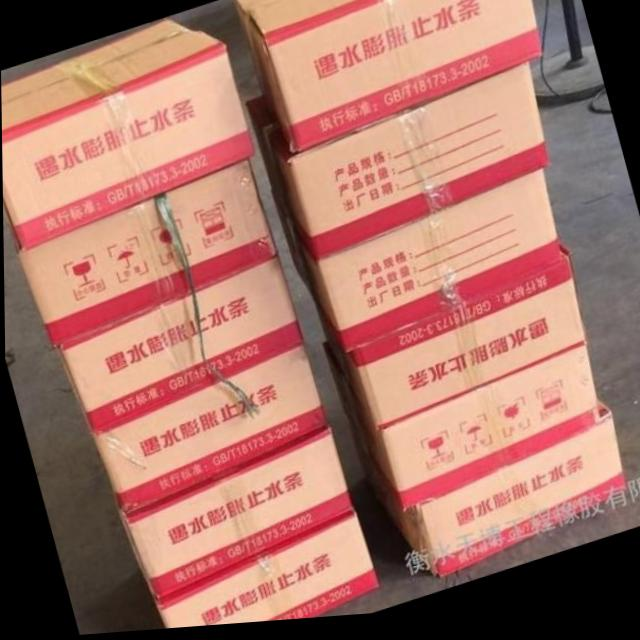box: (246, 68, 548, 266), (1, 22, 255, 251), (270, 178, 558, 355), (312, 254, 585, 438), (233, 0, 543, 160), (18, 162, 276, 352), (367, 406, 624, 583), (54, 261, 302, 438), (347, 354, 598, 518), (119, 434, 352, 607), (92, 350, 325, 521), (153, 516, 376, 631)
